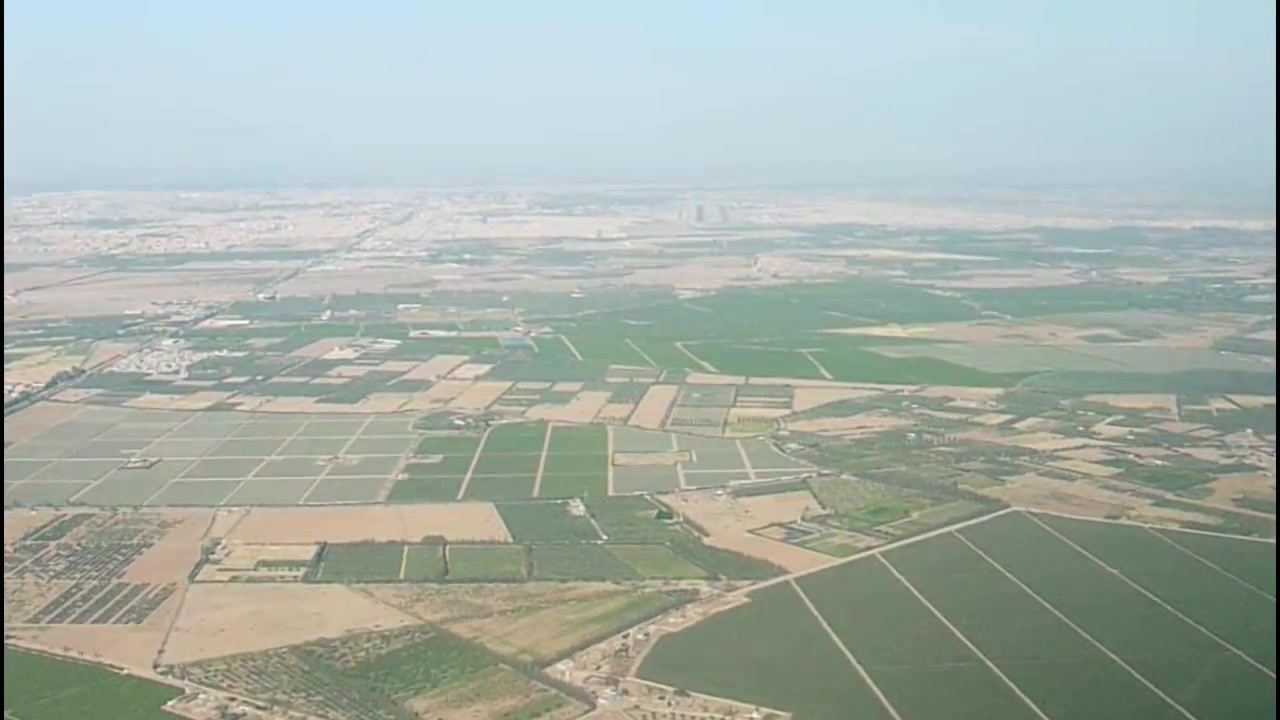runway: (690, 203, 707, 226)
